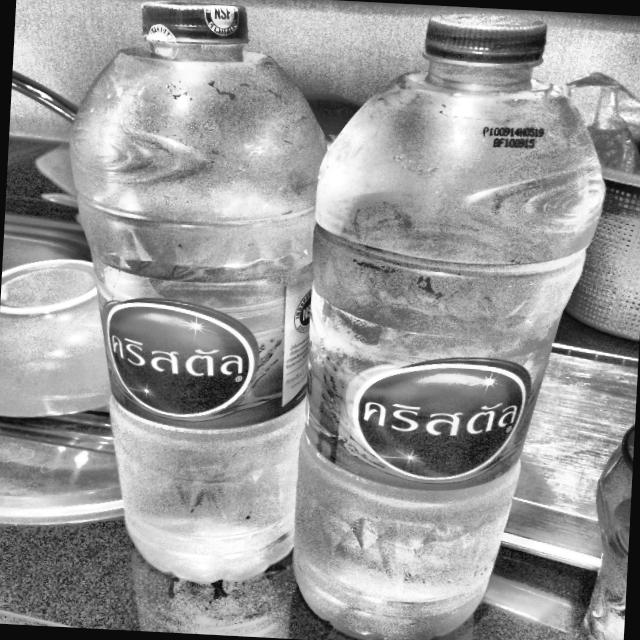waterbottle: (248, 0, 627, 640), (35, 0, 366, 606)
